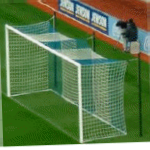goals: (3, 20, 129, 143)
